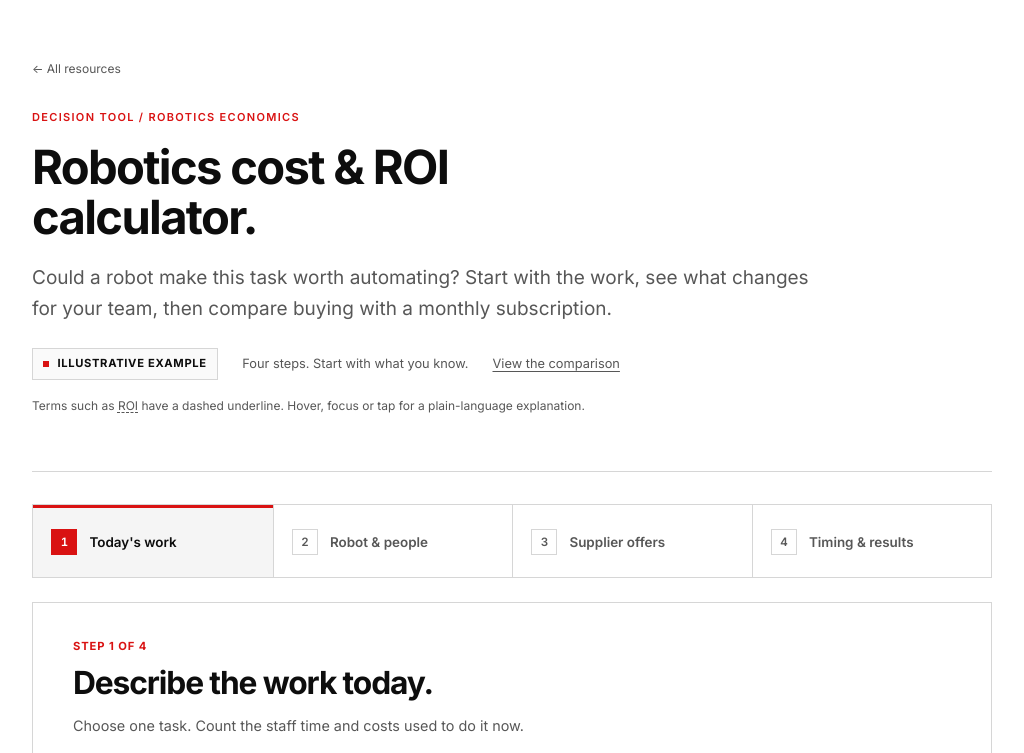
Scenario: Guided robotics cost and ROI calculator › pauses results and exports while an input is invalid
The width and height of the screenshot is (1024, 753).
Click the button "3 Supplier offers" at [632, 541], box [513,505,752,577]
(page scrolled)
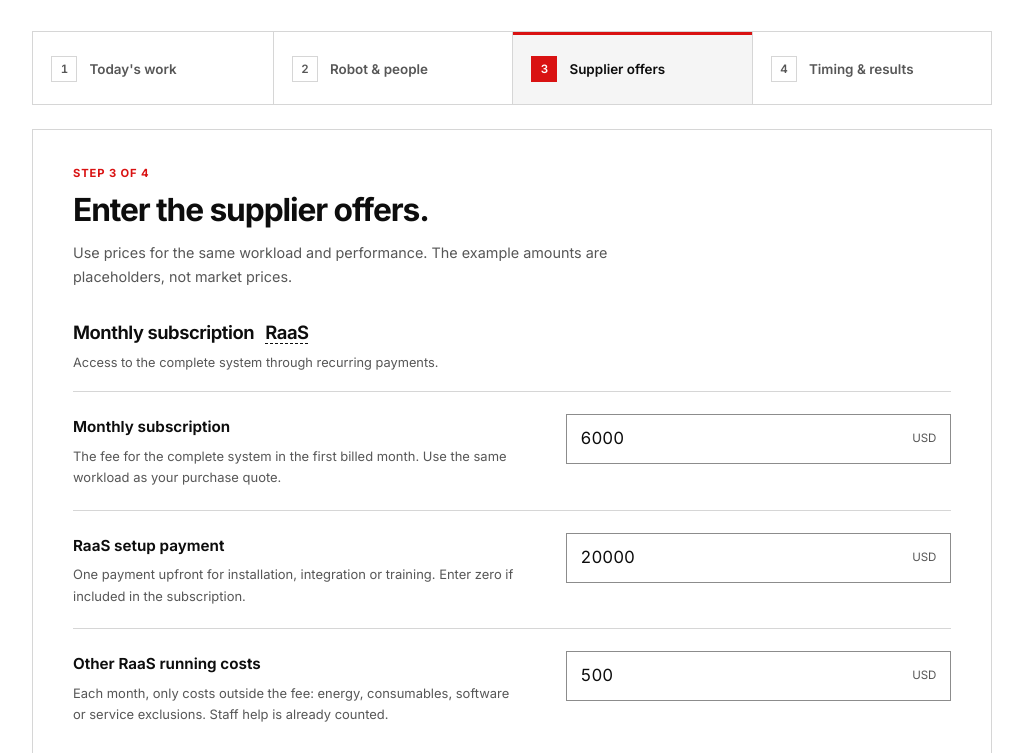
Replace the text in the field labelled "Monthly subscription" with "6000garbage" at [740, 439], box [567,415,912,463]
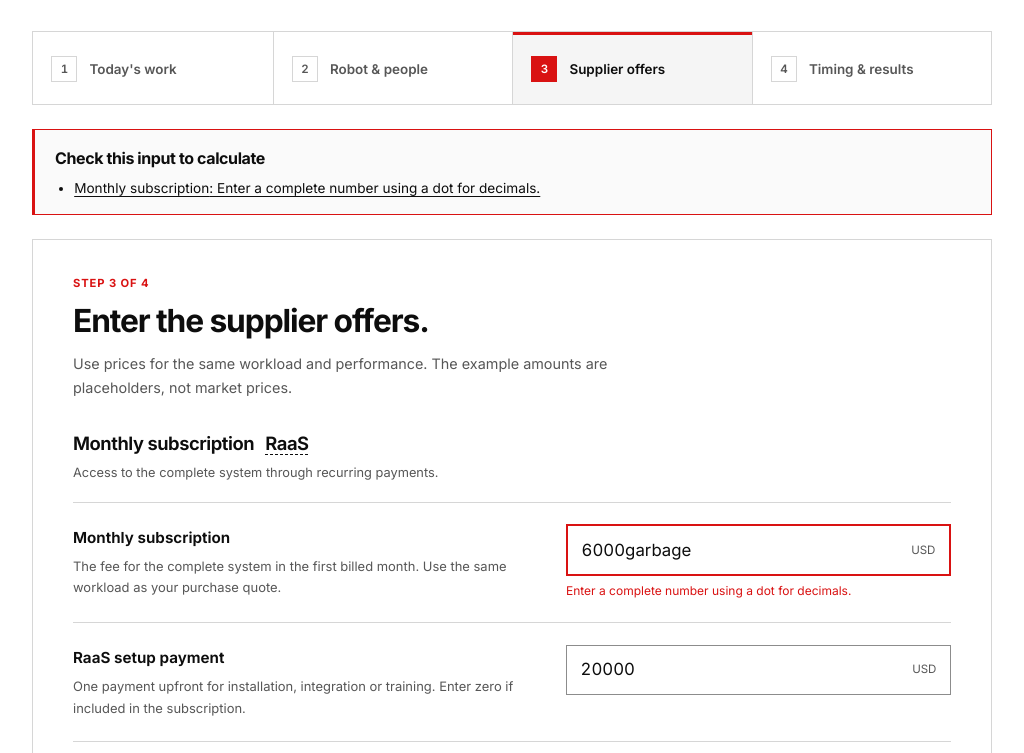
Expected: the message shows "Enter a complete number", [74,178,540,198]
Click the button "4 Timing & results" at [872, 68], box [752,32,991,104]
(page scrolled)
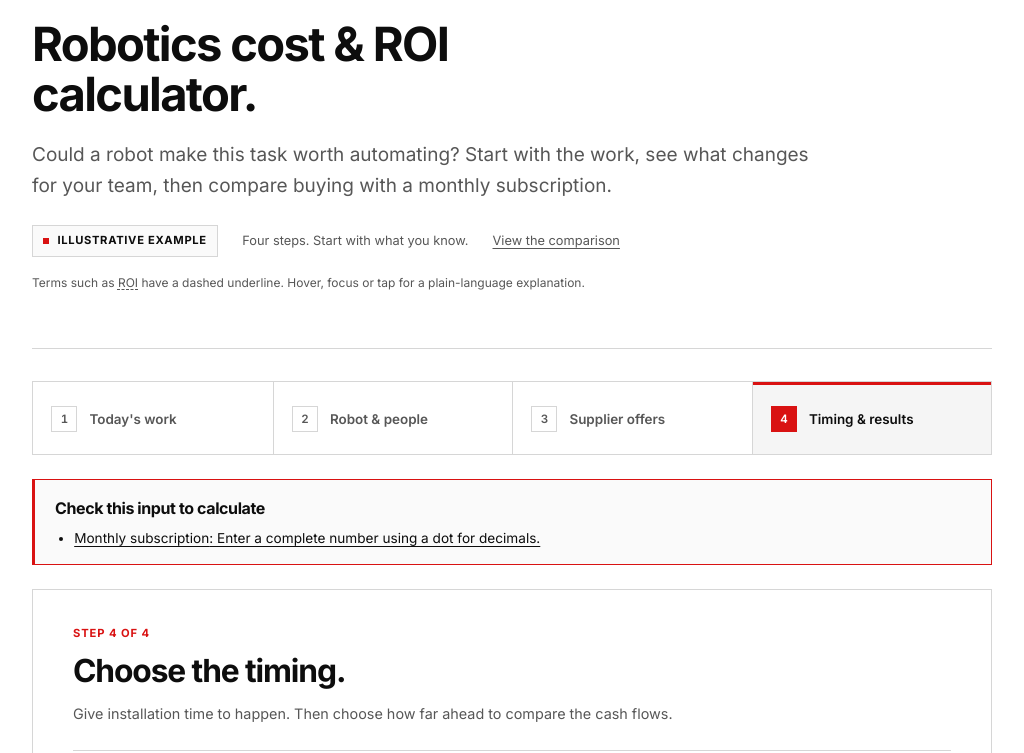
Click the button "3 Supplier offers" at [632, 418], box [513,382,752,454]
(page scrolled)
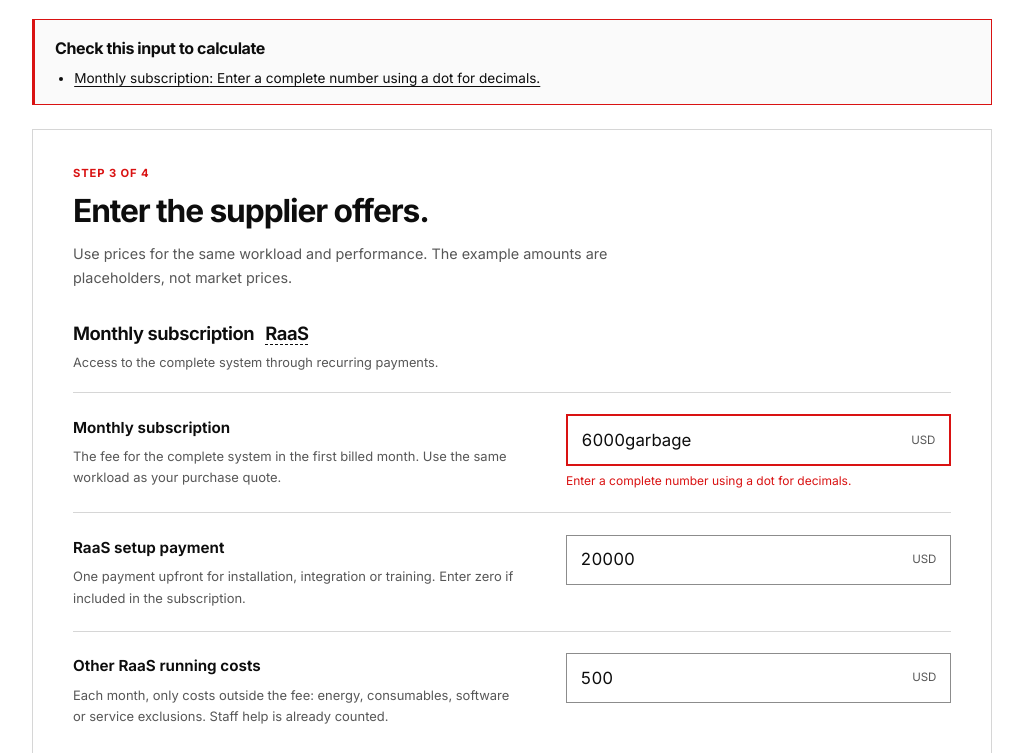
Replace the text in the field labelled "Monthly subscription" with "6000" at [740, 440], box [568,416,911,464]
(page scrolled)
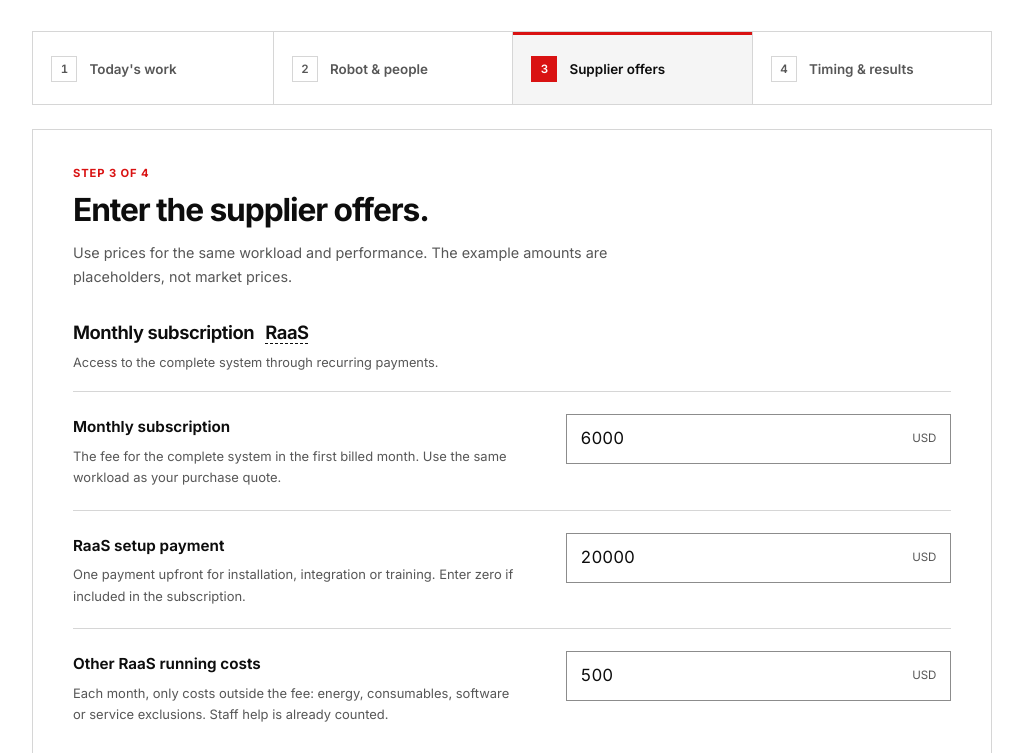
Click the button "4 Timing & results" at [872, 68], box [752,32,991,104]
(page scrolled)
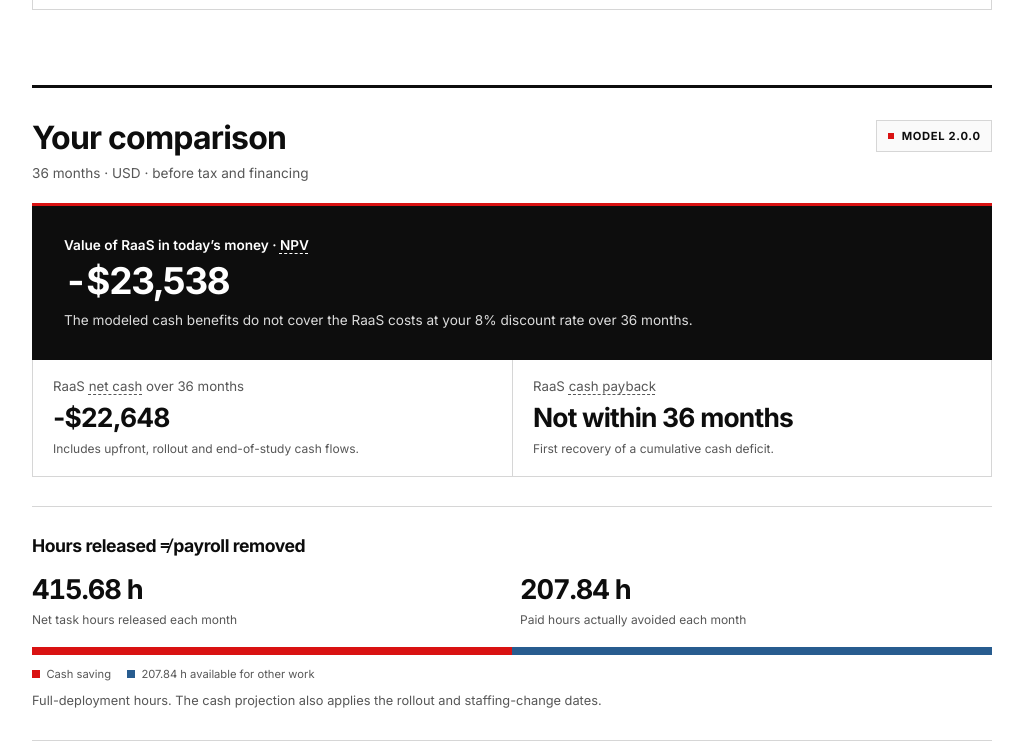
Expected: the element showing "RaaS net cash over 36 months" is shown, [53,378,244,396]
Expected: the text "-$22,648" is shown, [53,402,170,434]
